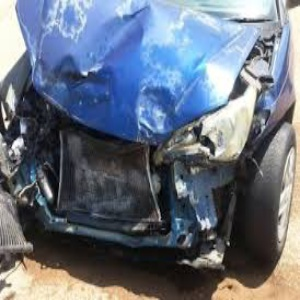bonnet: (14, 1, 215, 134)
bumper: (1, 158, 226, 269)
head_lights: (169, 89, 255, 159)
